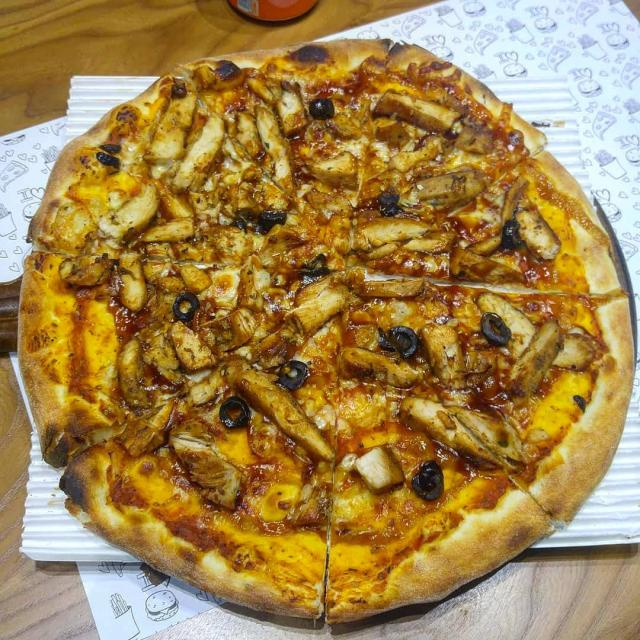black_olives: (404, 456, 454, 504), (476, 308, 512, 349), (213, 392, 247, 433), (171, 291, 209, 326), (277, 353, 310, 389), (499, 217, 528, 254), (383, 322, 414, 353), (255, 205, 282, 239), (93, 140, 120, 174), (304, 93, 333, 122), (375, 191, 400, 220)
pizza: (16, 40, 636, 628)
